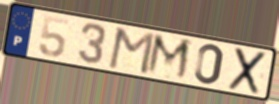0: (193, 43, 225, 86)
3: (77, 22, 109, 67)
5: (37, 14, 72, 58)
M: (143, 31, 194, 83), (106, 26, 157, 77)
X: (226, 46, 269, 97)
